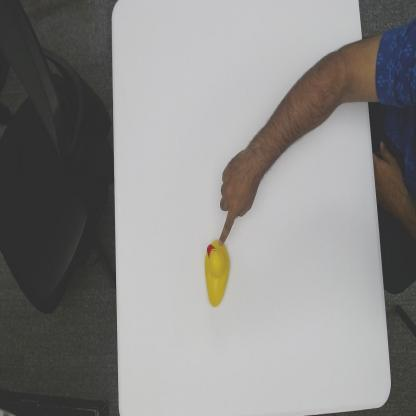Arm: (256, 39, 370, 174)
Duck: (203, 238, 231, 308)
Hand: (218, 148, 261, 246)
